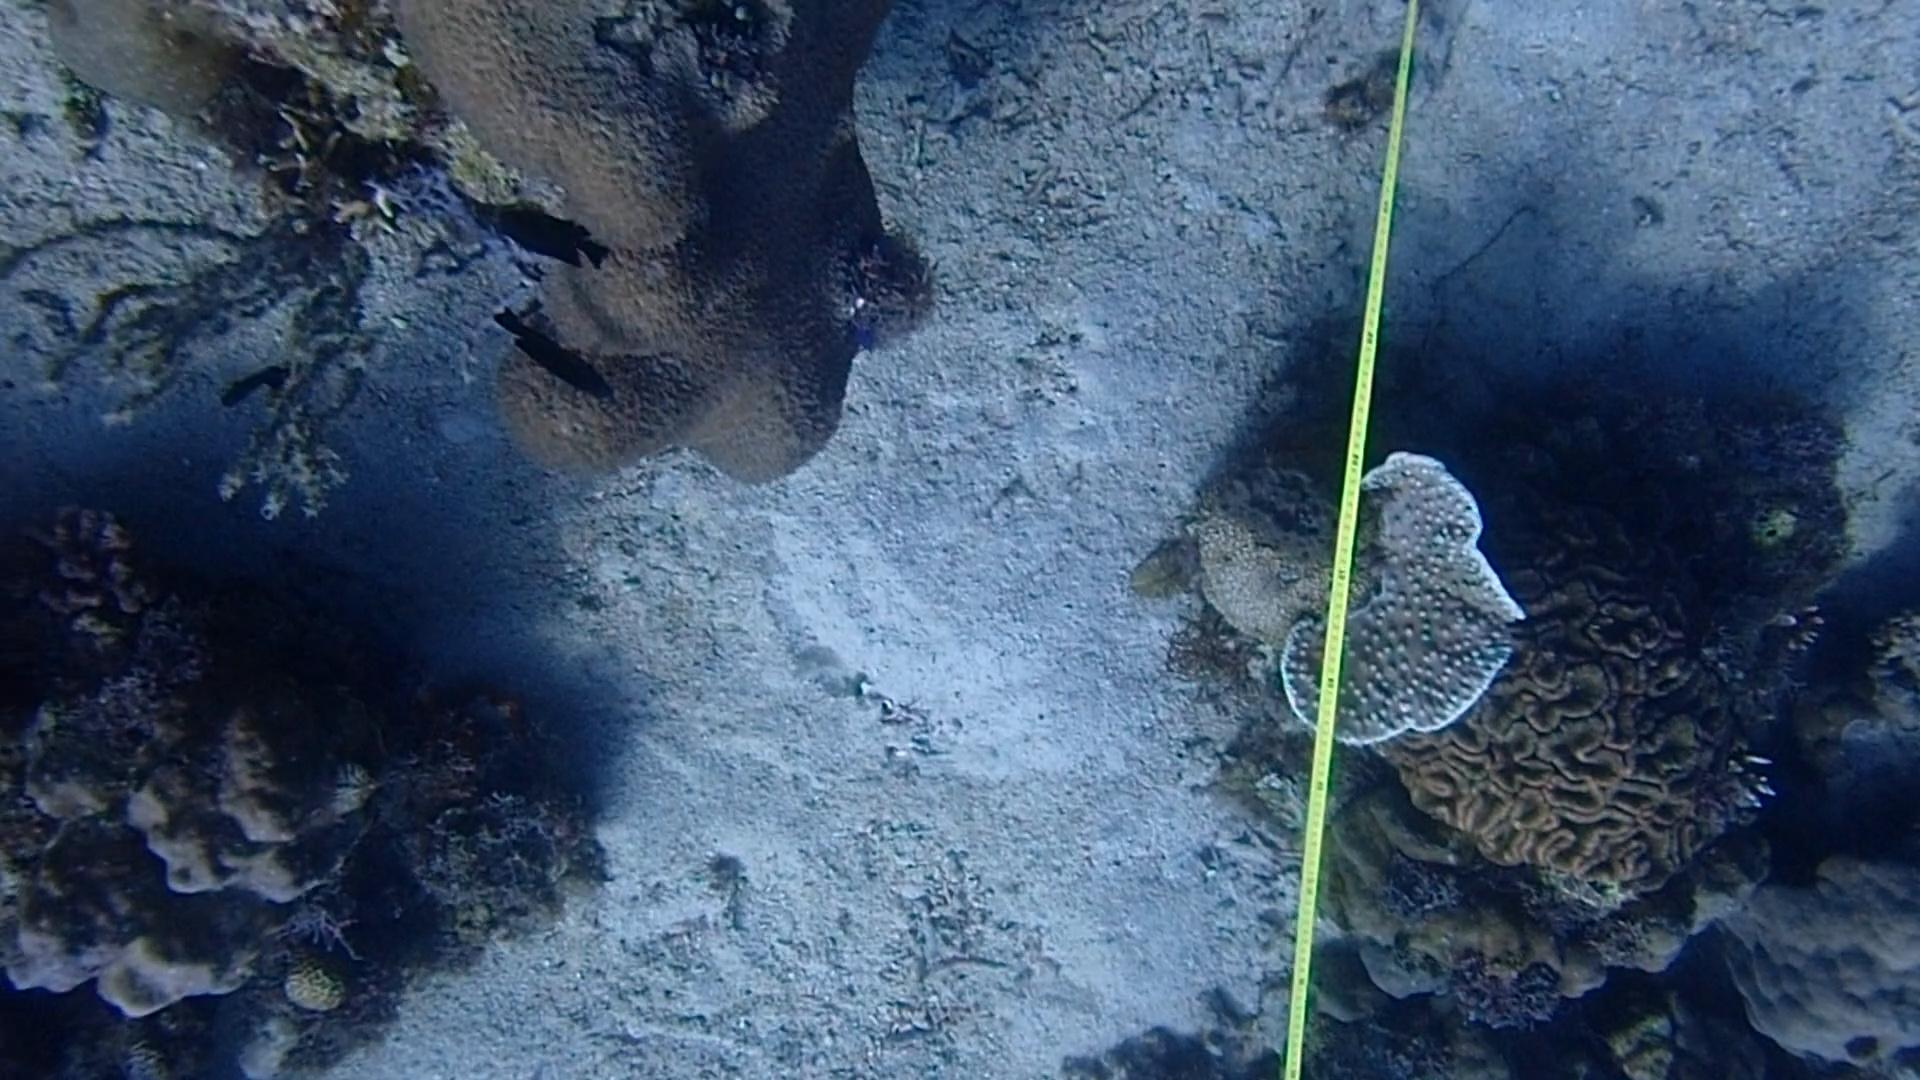Dark Fish: (464, 190, 609, 281), (472, 309, 609, 400), (193, 344, 290, 422)
